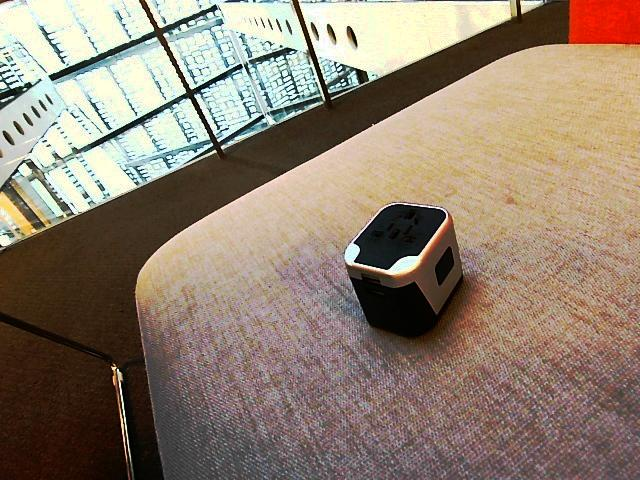adapter: (343, 201, 463, 337)
